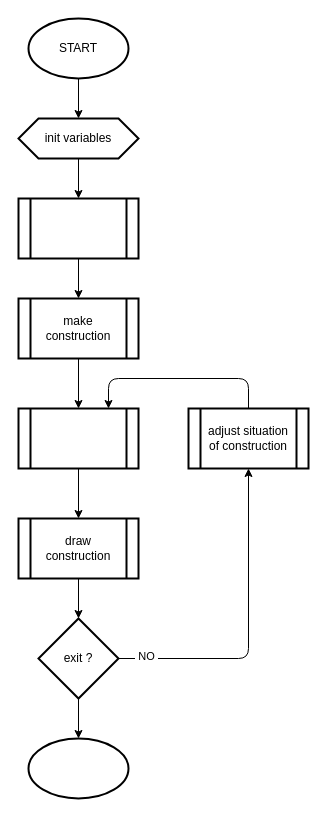
This 326x816 diagram has some shape labels left out. Each missing label, with the centre of its shape:
calculate construction: point 78,438
read source file: point 78,228
STOP: point 78,768
